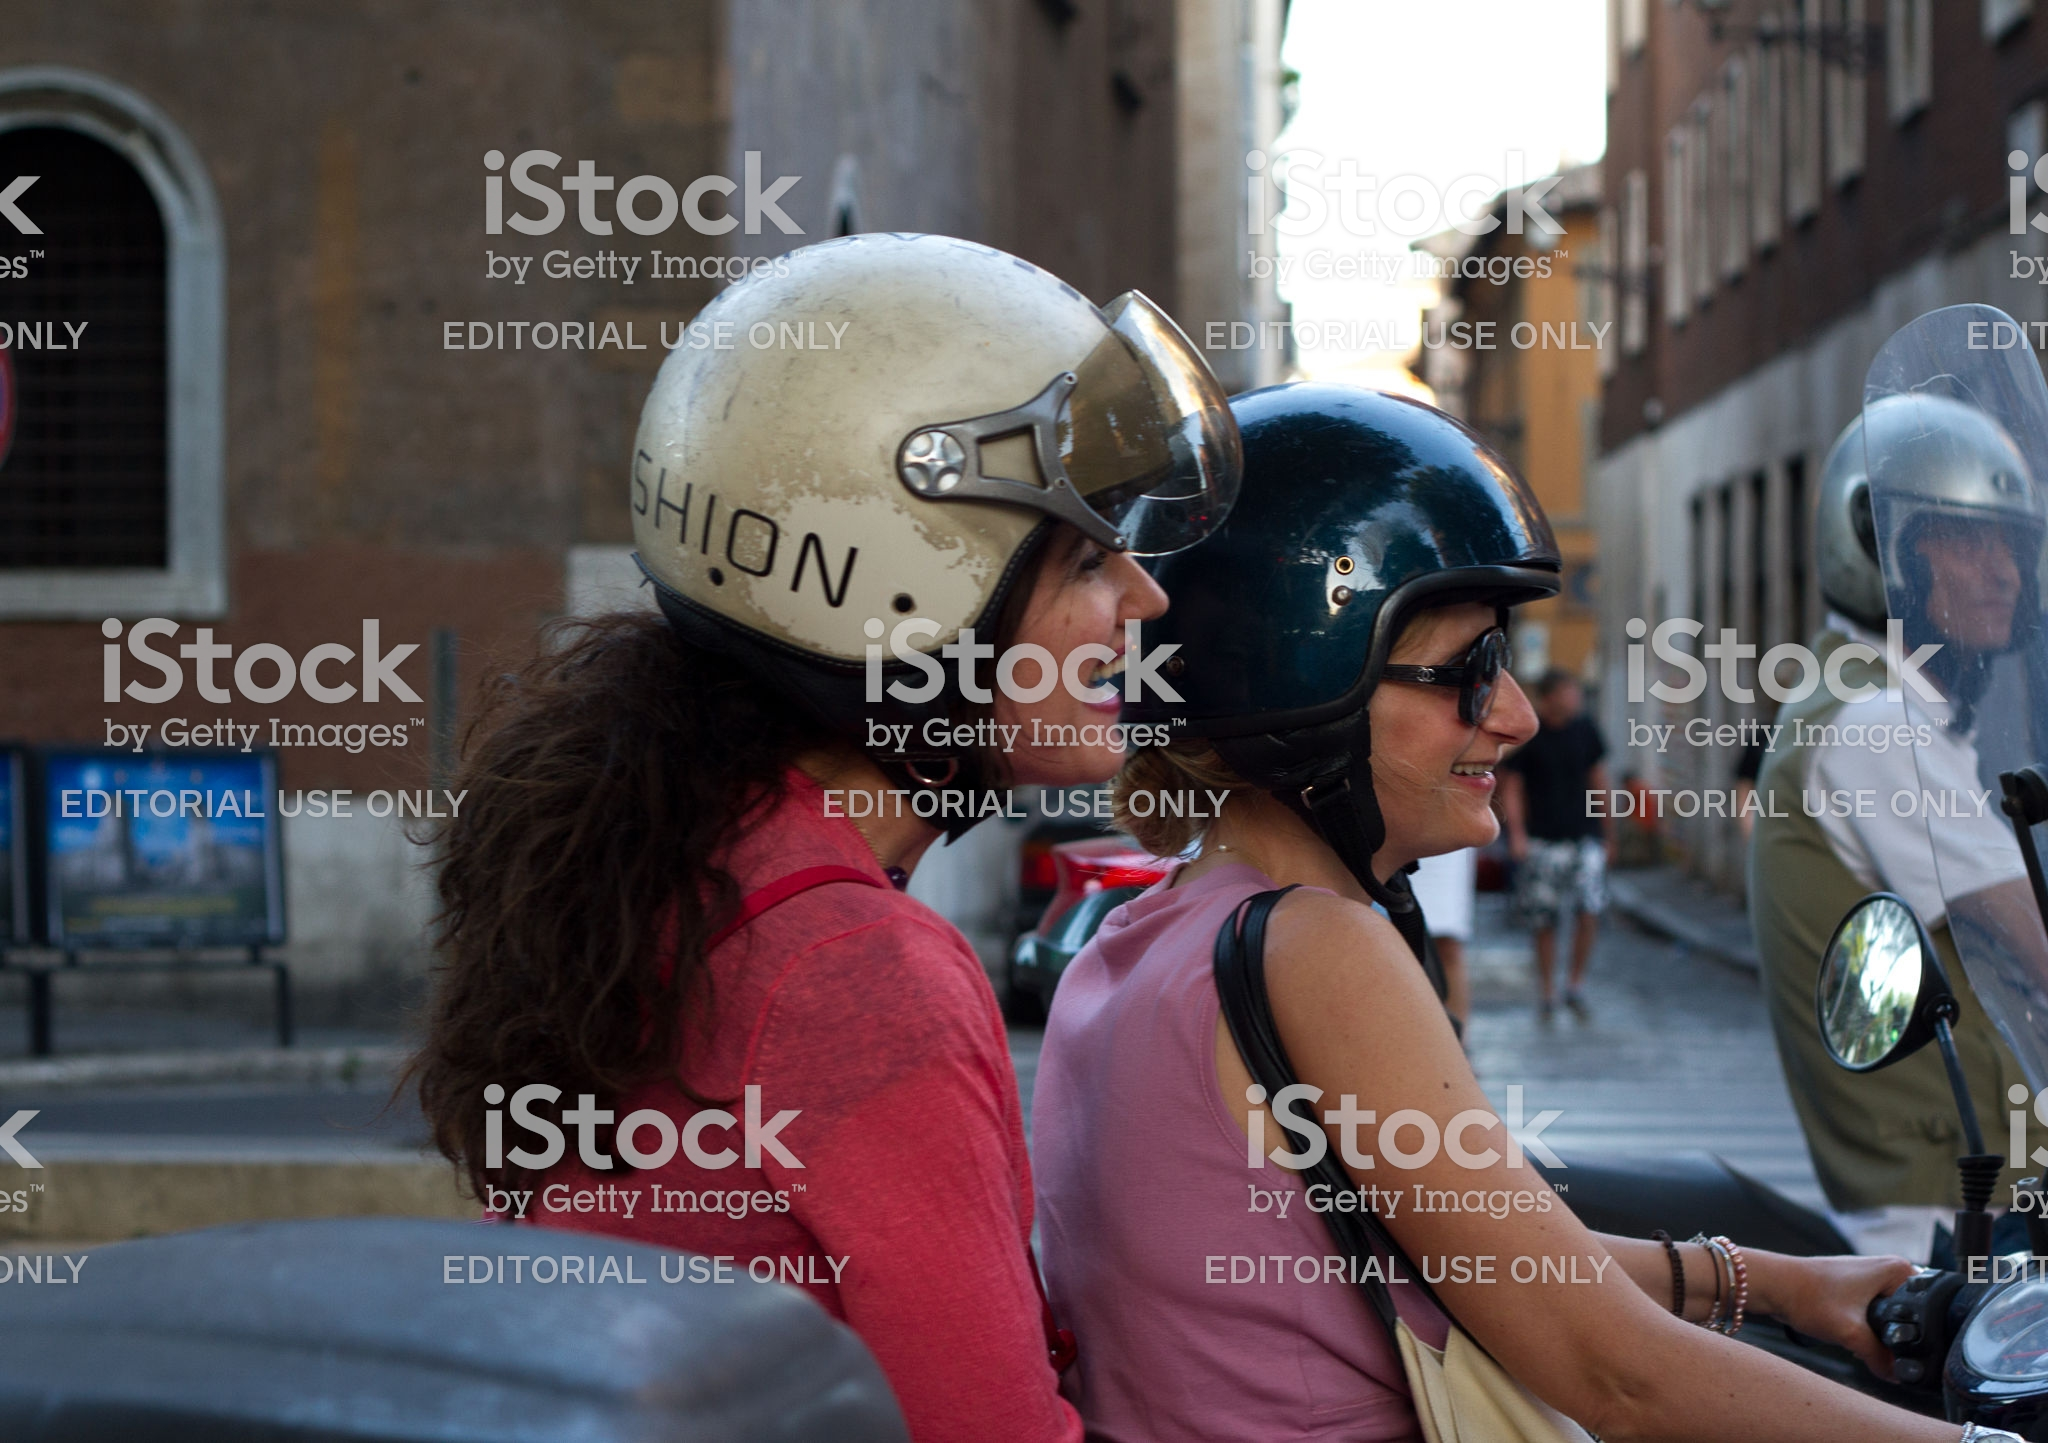helmet: (609, 211, 1143, 615), (1108, 362, 1530, 707)
